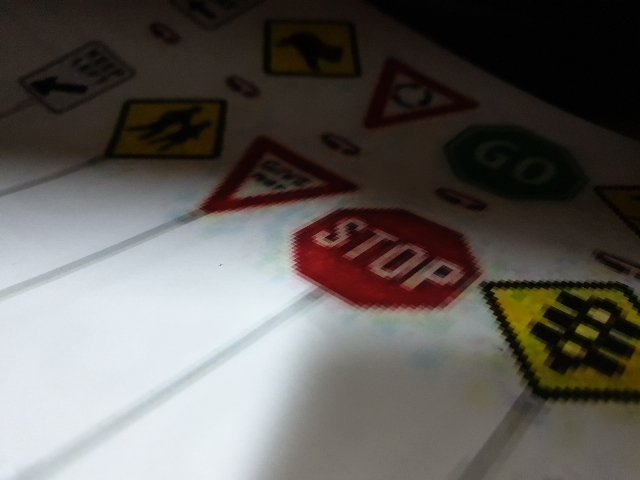giveway: (229, 140, 349, 205)
stop: (301, 215, 485, 304)
